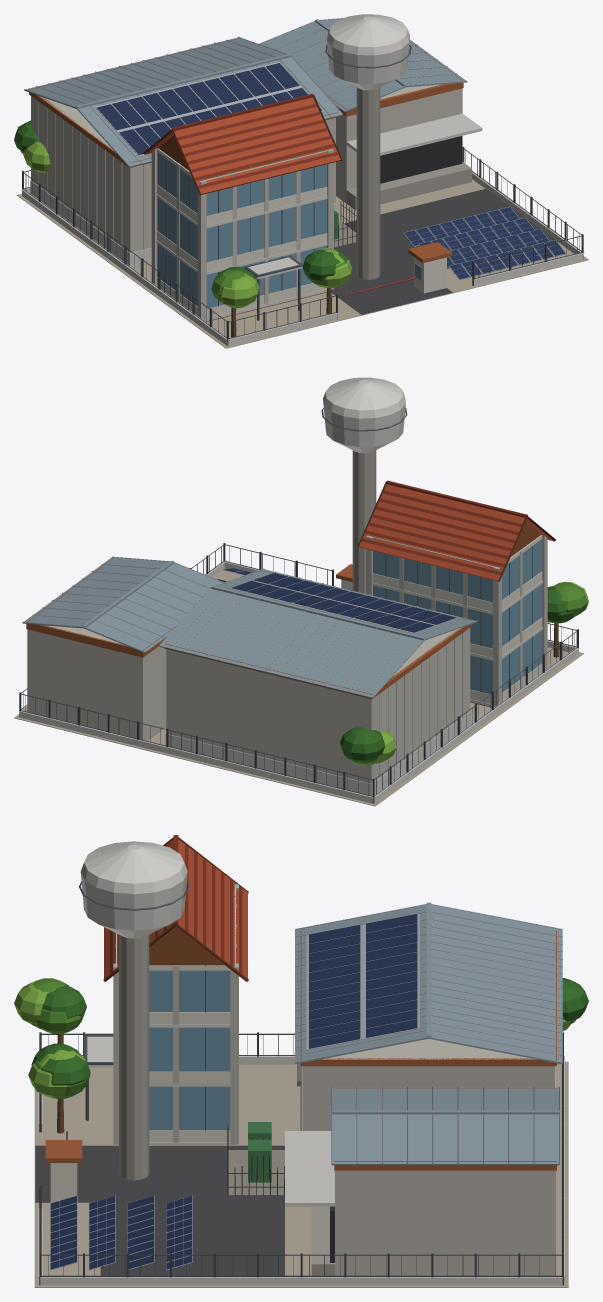
The model's file is factory_4.glb.
3 views of the same model, one above another, from view 1: azimuth 30°, elevation 25°; view 2: azimuth 150°, elevation 25°; view 3: azimuth 270°, elevation 25° (orthographic). The views are drawn at different scales.
Visible parts, largest first — view 1: body; view 2: body; view 3: body.
Boxes of the visible parts, x1=… form: body: x1=14, y1=14, x2=588, y2=348; body: x1=14, y1=377, x2=588, y2=806; body: x1=14, y1=835, x2=588, y2=1287.
Size of the model in its own units: 32.41 by 21.63 by 34.34.
